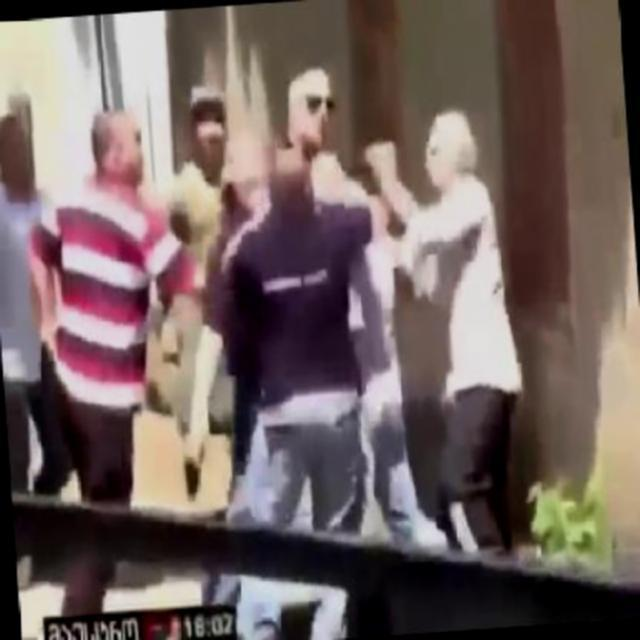fight: (212, 114, 500, 388)
